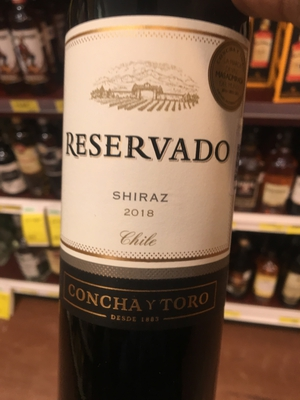reservado shiraz: (62, 8, 252, 400)
